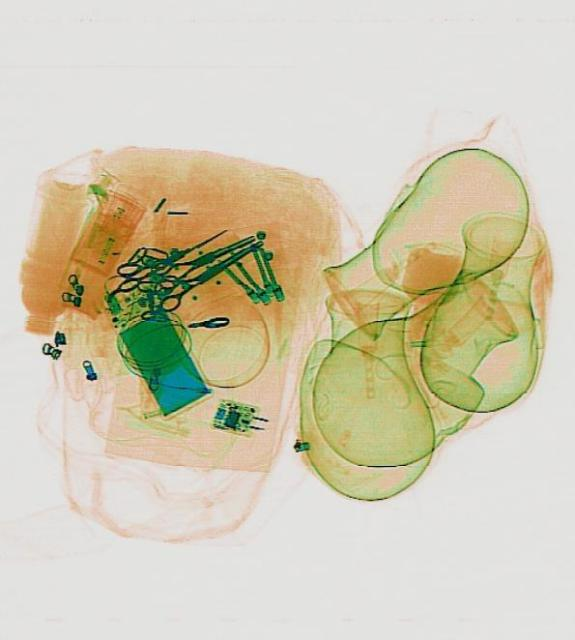Scissors: (147, 232, 271, 312), (111, 220, 231, 290)
